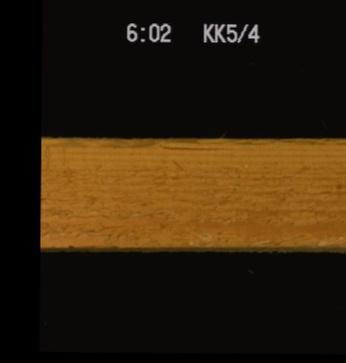wave: (40, 136, 243, 151)
